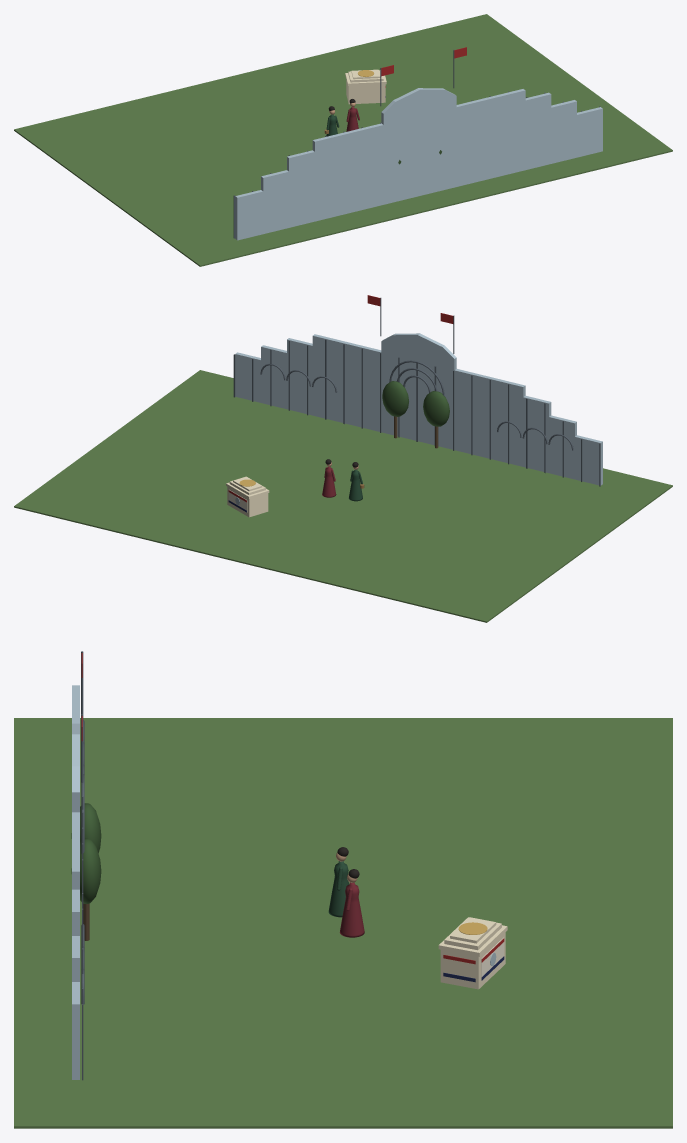
Rendered from scan-fig75-huntley-palmers-advertisement-muse.glb.
The picture shows the model from 3 angles, top to bottom: view 1: azimuth 30°, elevation 25°; view 2: azimuth 150°, elevation 25°; view 3: azimuth 270°, elevation 25°; orthographic projection. The views are drawn at different scales.
Parts seen in each view (by area): view 1: GrassSlab, PalaceFacade, TinBody; view 2: GrassSlab, PalaceFacade, BackdropElm-1, BackdropElm1, TinBody; view 3: GrassSlab, PalaceFacade, TinBody, BackdropElm1, VisitorBurgundy_Body, VisitorGreen_Body.
Boxes of the visible parts, left/top/right/bottom form: GrassSlab: left=14, top=14, right=672, bottom=266; PalaceFacade: left=235, top=88, right=602, bottom=240; TinBody: left=346, top=80, right=385, bottom=104; GrassSlab: left=14, top=370, right=672, bottom=622; PalaceFacade: left=235, top=333, right=602, bottom=485; BackdropElm-1: left=423, top=391, right=449, bottom=426; BackdropElm1: left=382, top=381, right=408, bottom=416; TinBody: left=227, top=486, right=268, bottom=517; GrassSlab: left=14, top=718, right=672, bottom=1128; PalaceFacade: left=72, top=685, right=79, bottom=1079; TinBody: left=440, top=932, right=505, bottom=989; BackdropElm1: left=71, top=838, right=101, bottom=903; VisitorBurgundy_Body: left=339, top=882, right=364, bottom=937; VisitorGreen_Body: left=328, top=861, right=348, bottom=917.
Size of the model in its own units: 22 by 6.06 by 15.
